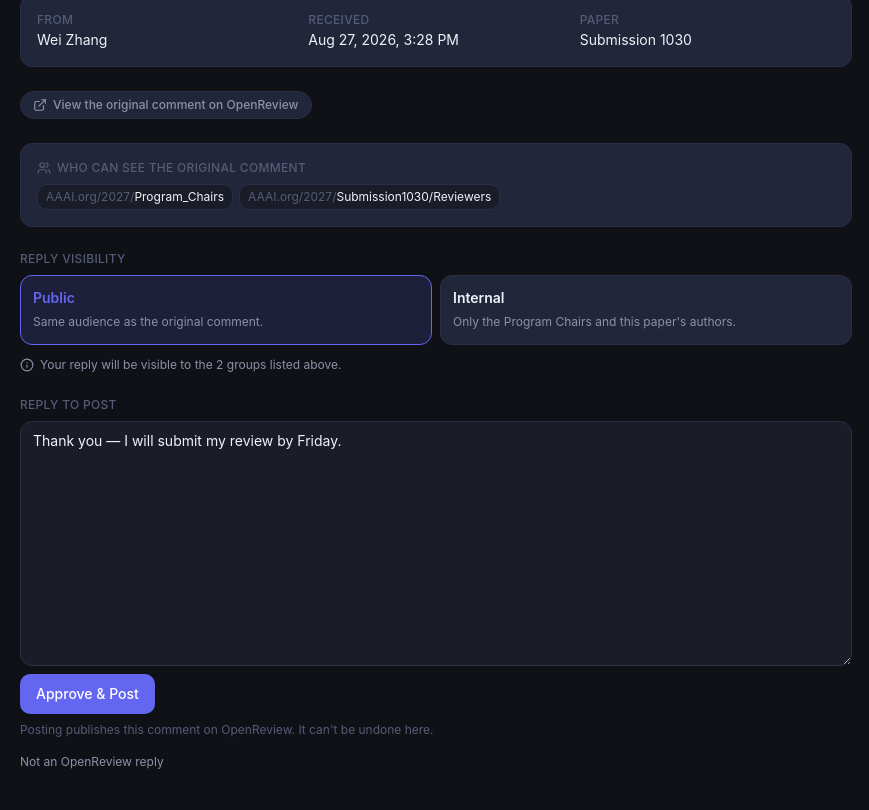
post — failure › shows a specific message for OpenReviewThreadMismatchError
(page scrolled)
expect the text box labelled "Reply to post" holds "Thank you — I will submit my review by Friday.": met, box x1=20 y1=420 x2=852 y2=666
Click the button "Approve & Post".
click(87, 694)  # box x1=20 y1=674 x2=155 y2=714
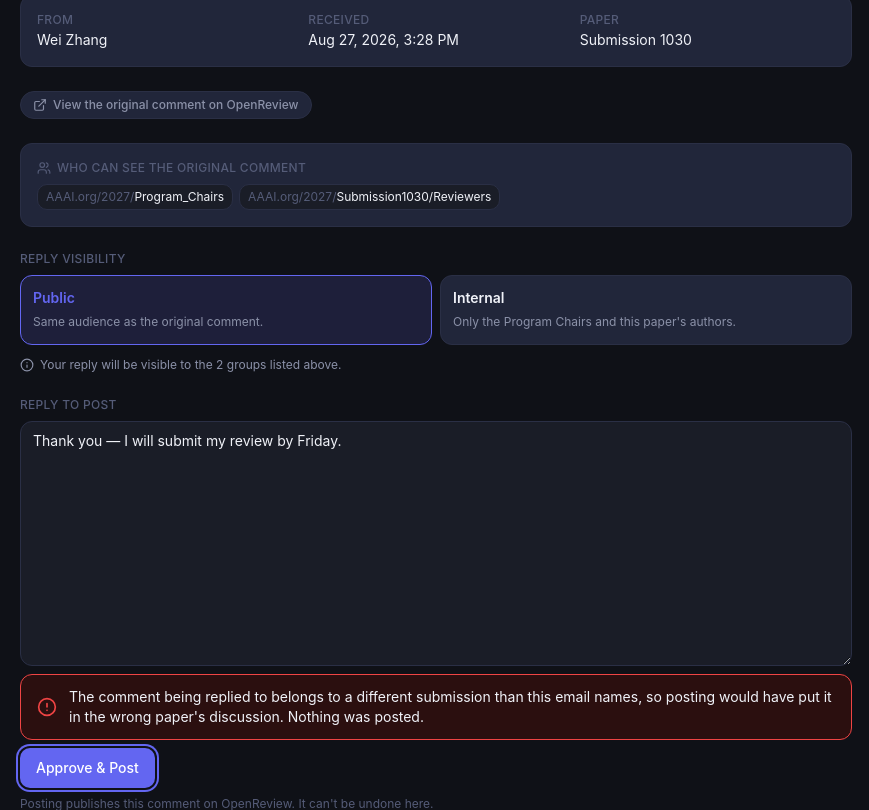
expect the message does not show "something went wrong": met, box x1=20 y1=674 x2=852 y2=740
expect the message shows "belongs to a different submission": met, box x1=69 y1=688 x2=832 y2=725
